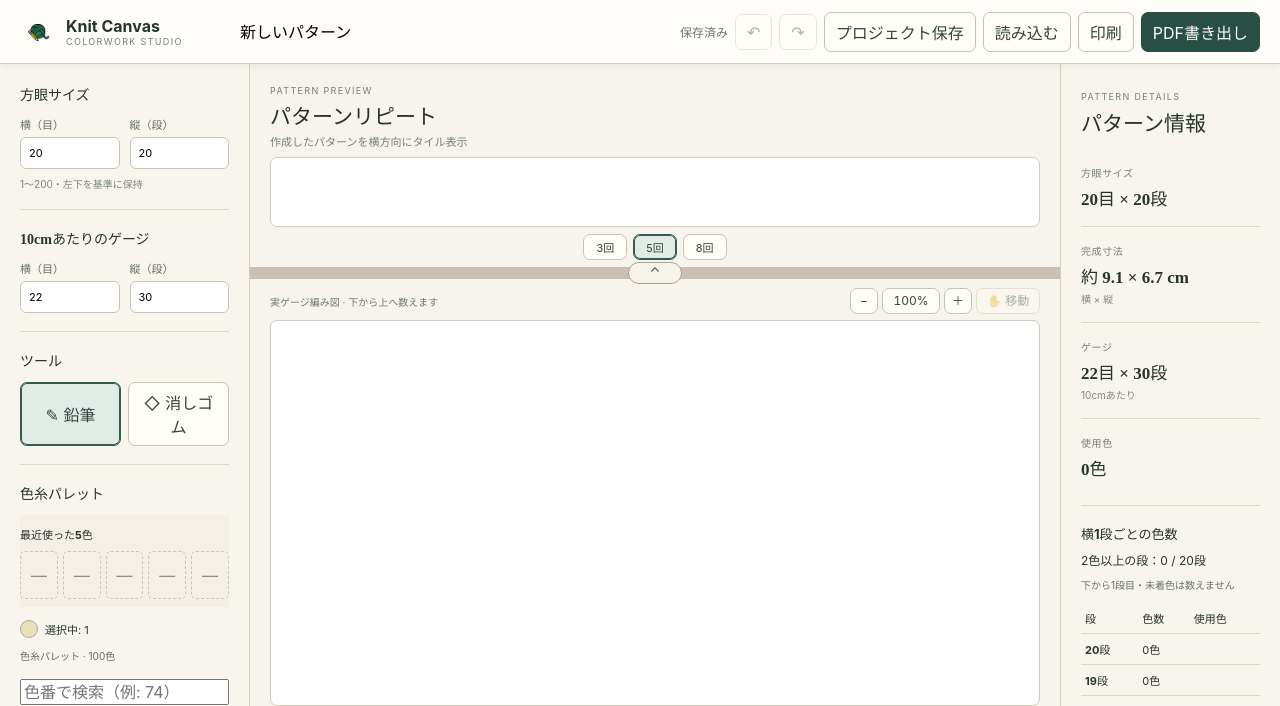
Test: App › zooms the editable chart and resets it to 100%
The width and height of the screenshot is (1280, 706).
What coordinates should you click on to do the following:
click the button named "編み図を拡大"
I would click on:
 (958, 301)
Its box is [944, 288, 972, 314].
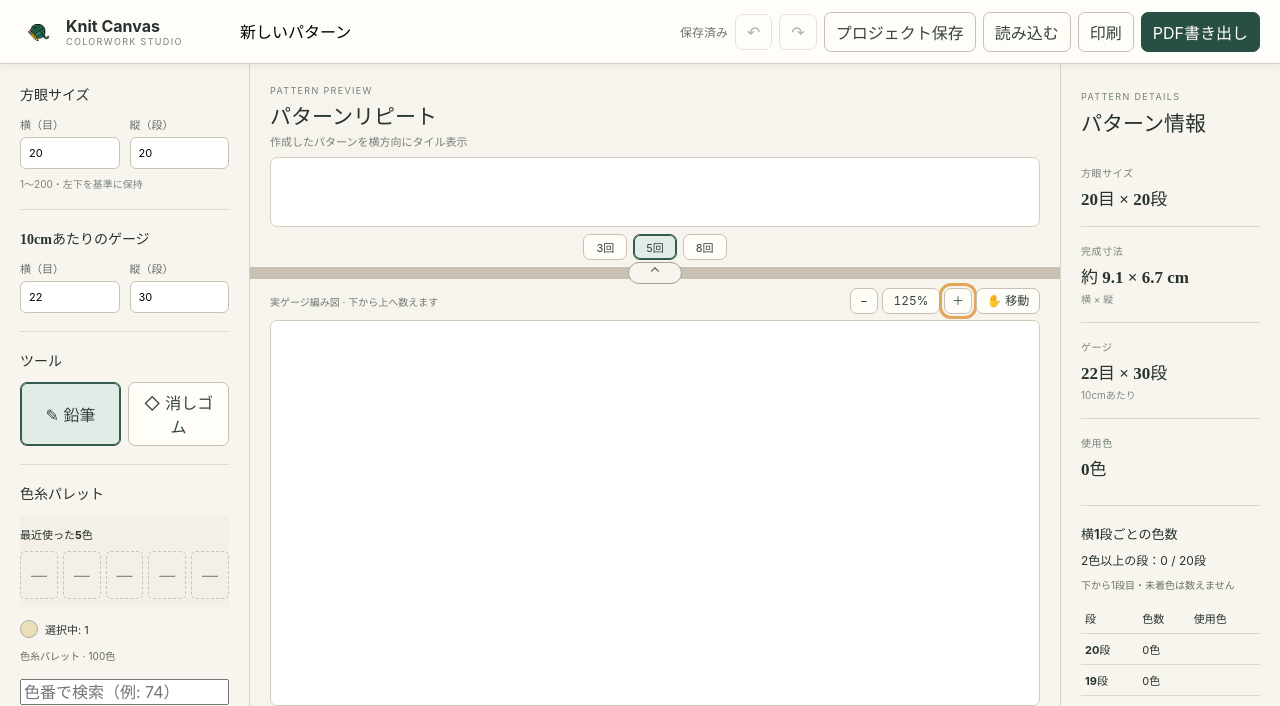
Check: the button with aria-label "表示位置を移動" is enabled
What coordinates should you click on to do the following:
click the button with aria-label "表示位置を移動"
I would click on:
 (1008, 301)
Its box is [976, 288, 1040, 314].
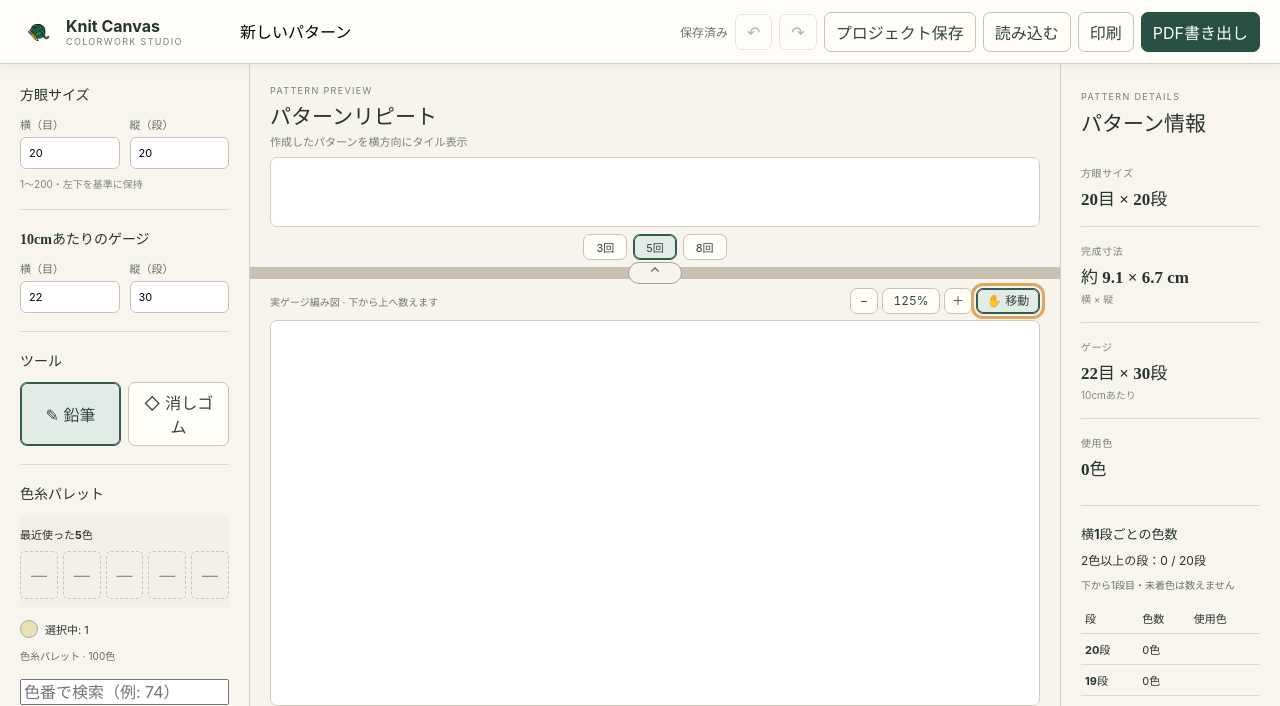
Check: the button named "表示倍率 125%。100%に戻す" is enabled
What coordinates should you click on to do the following:
click the button named "表示倍率 125%。100%に戻す"
I would click on:
 (911, 301)
Its box is [882, 288, 940, 314].
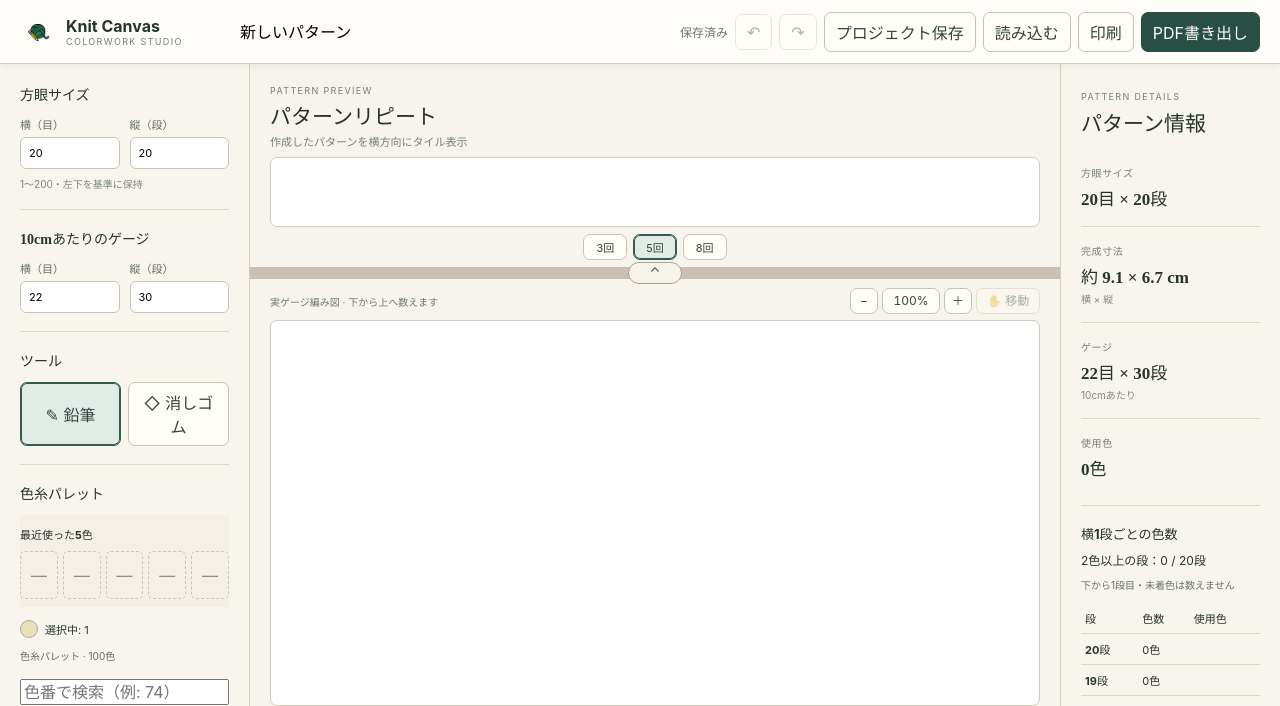
Check: the button named "表示倍率 100%。100%に戻す" is disabled, box [882, 288, 940, 314]
Check: the button with aria-label "表示位置を移動" is disabled, box [976, 288, 1040, 314]
